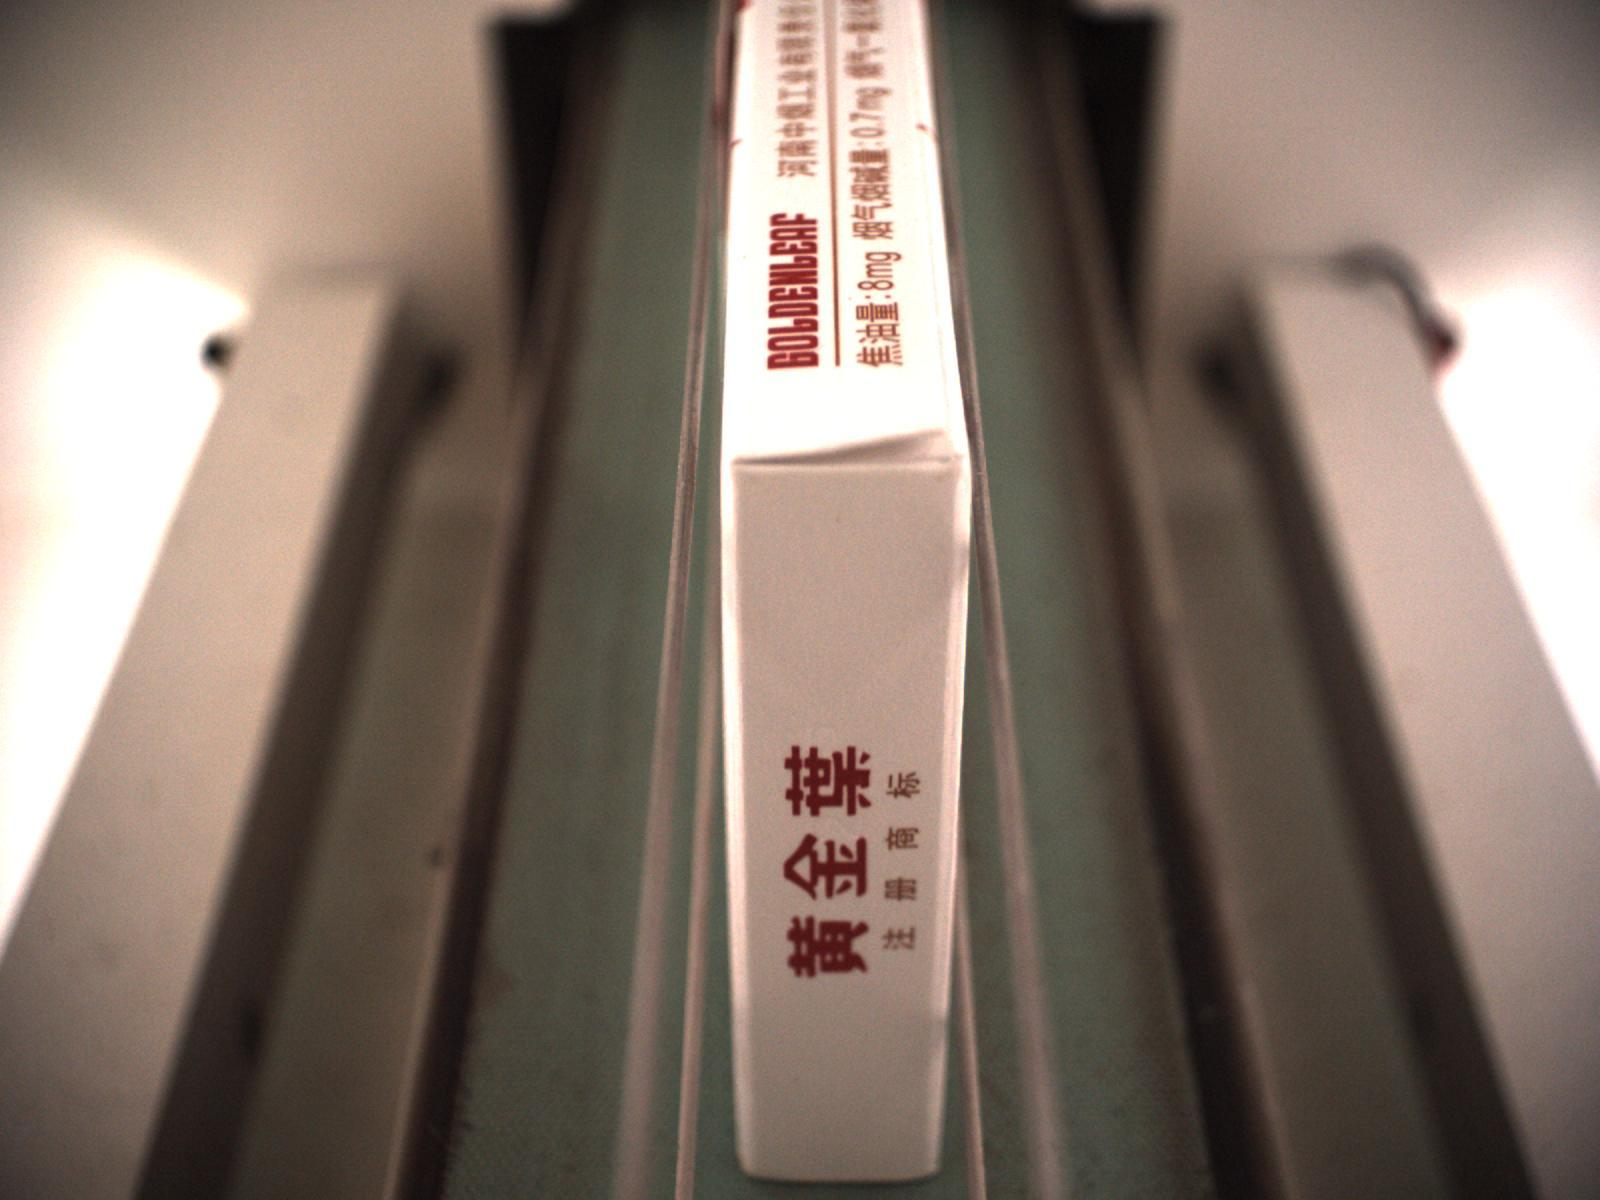bottomUpwarp_upper_3: (723, 424, 968, 475)
dirtySpot: (833, 516, 843, 524)
